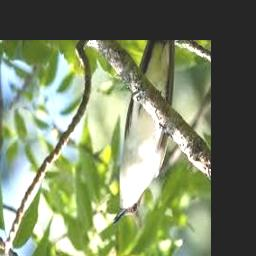Cuckoo: (112, 40, 174, 225)
